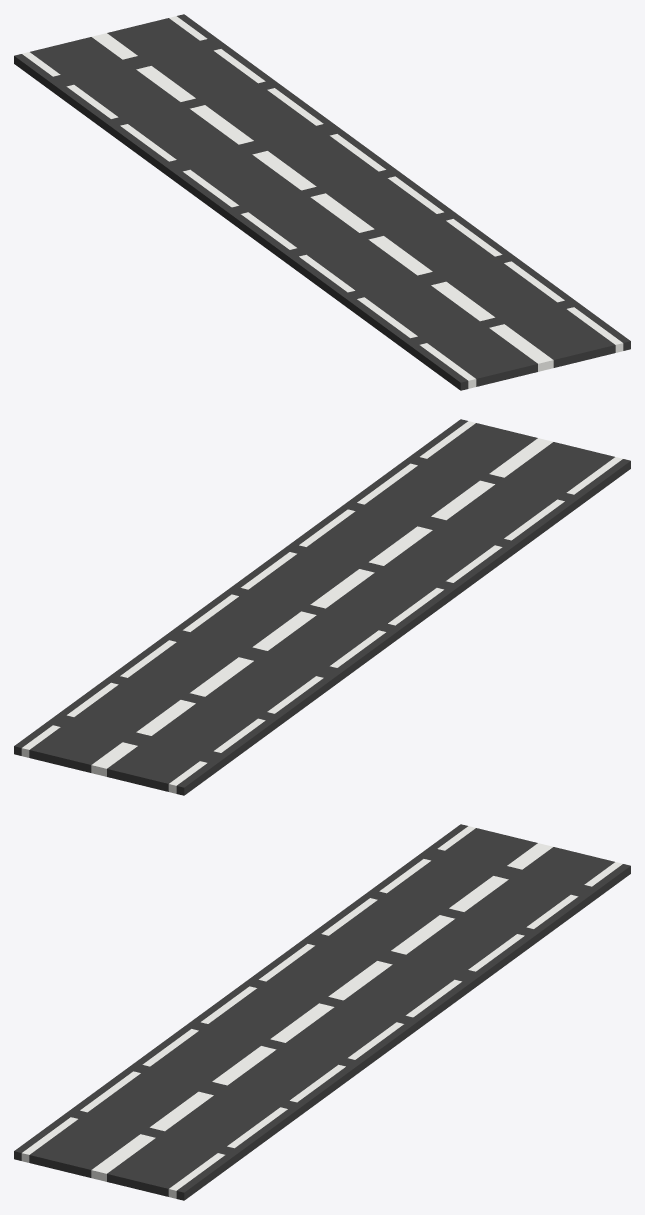
Rendered from background-0.obj.
3 views of the same model, one above another, from view 1: azimuth 30°, elevation 25°; view 2: azimuth 150°, elevation 25°; view 3: azimuth 330°, elevation 25° (orthographic).
Parts seen in each view (by area): view 1: background-0; view 2: background-0; view 3: background-0.
Part boxes in pixels (box(x1,y1,x2,y2)): background-0: box(14, 14, 630, 390); background-0: box(14, 419, 630, 795); background-0: box(14, 824, 630, 1200).
Bounding box in the file's own units: 22 × 1 × 100.
Materials: 1 (1 with a texture image).
